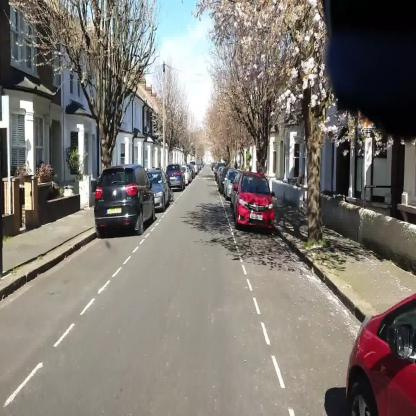car: (94, 166, 156, 238), (235, 171, 274, 232), (146, 169, 169, 211), (166, 163, 186, 192), (223, 170, 240, 199), (250, 213, 262, 220)
